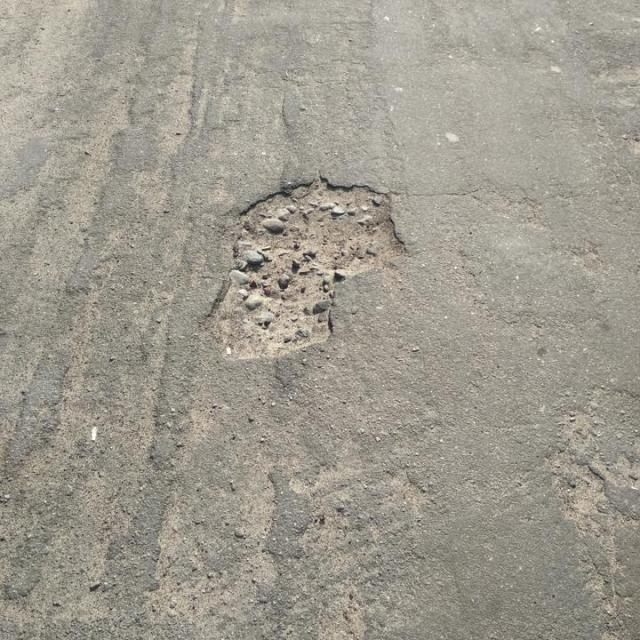Pothole: (203, 174, 413, 369)
